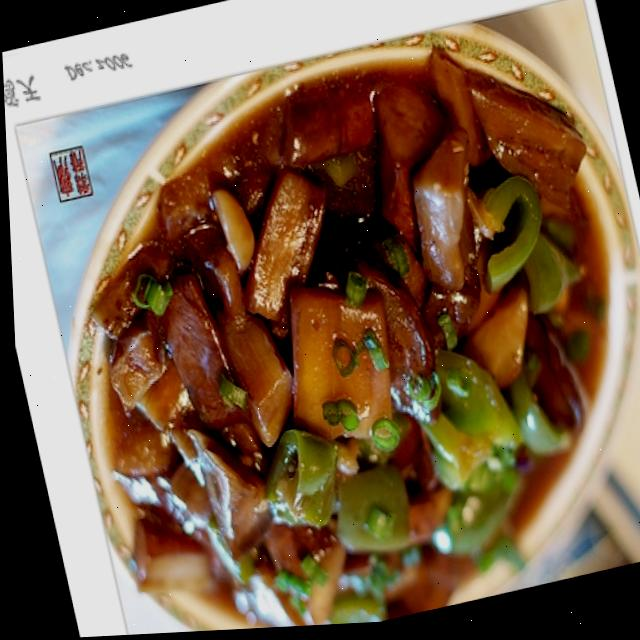鸡蛋料理: (3, 9, 640, 640)
